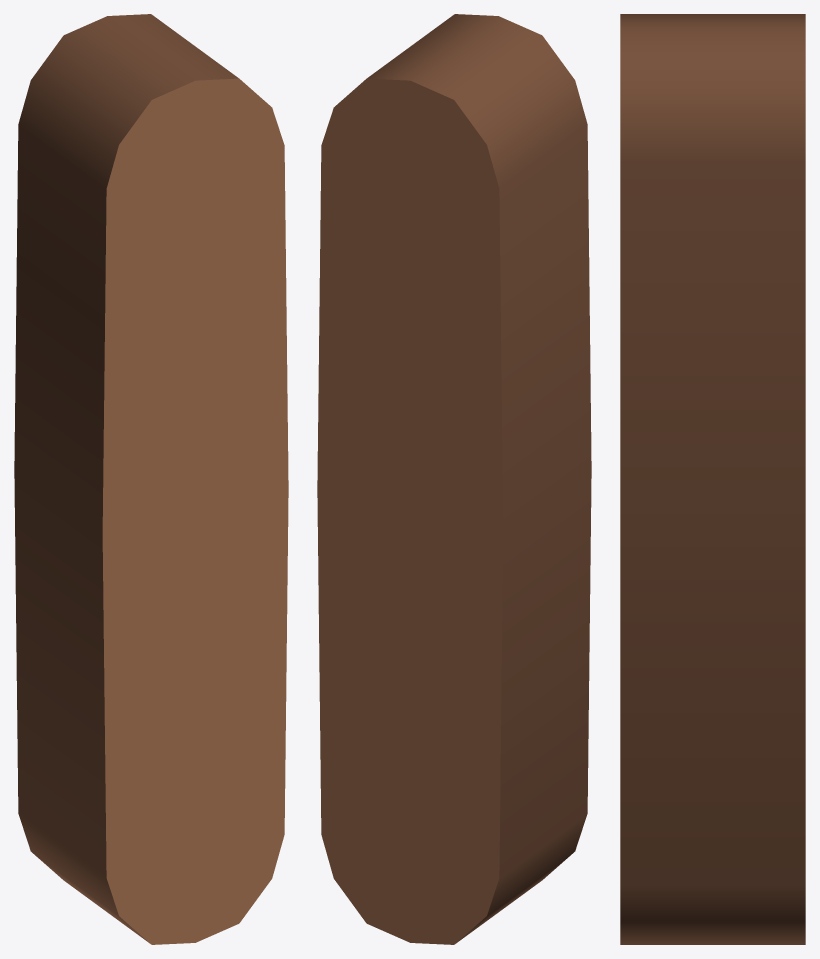
The model's file is ENV1610009.fbx.
3 renders of one model, left to right at view 1: azimuth 30°, elevation 25°; view 2: azimuth 150°, elevation 25°; view 3: azimuth 270°, elevation 25°, orthographic. The views are drawn at different scales.
Parts seen in each view (by area): view 1: smENV1610009; view 2: smENV1610009; view 3: smENV1610009.
Boxes of the visible parts, left/top/right/bottom form: smENV1610009: left=14, top=14, right=288, bottom=944; smENV1610009: left=317, top=14, right=591, bottom=944; smENV1610009: left=620, top=14, right=805, bottom=944.
Size of the model in its own units: 10.69 by 47.36 by 8.78.
Materials: 1 (1 with a texture image).
